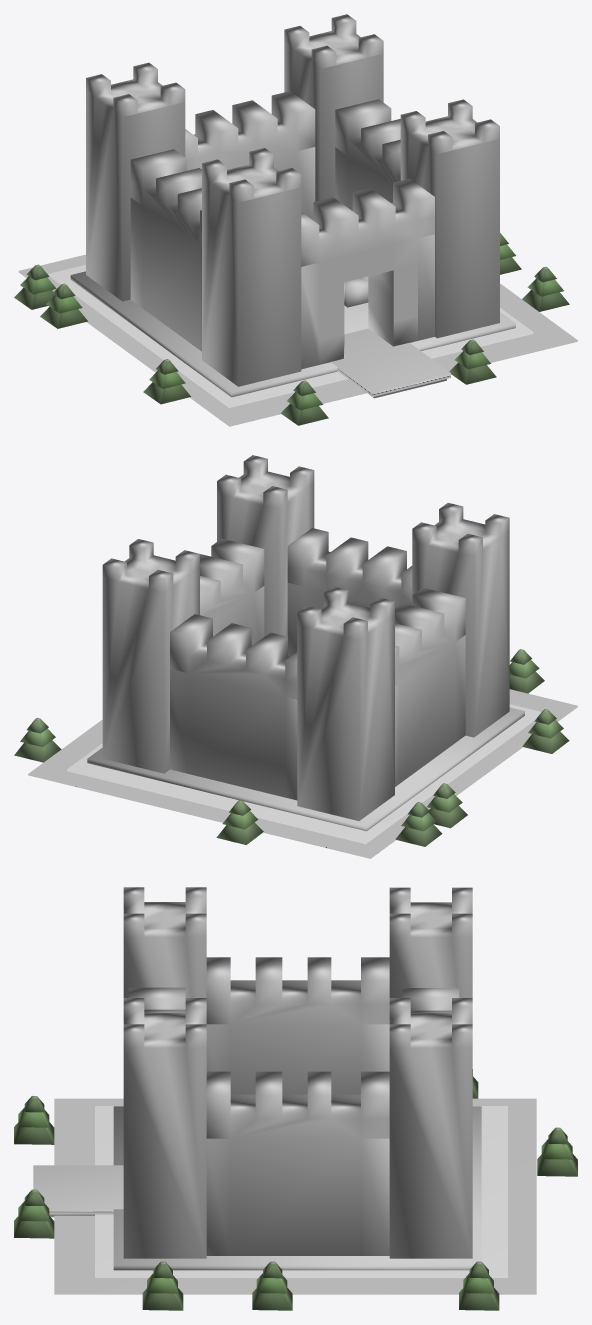
File: Castle.fbx
3 renders of one model, top to bottom at view 1: azimuth 30°, elevation 25°; view 2: azimuth 150°, elevation 25°; view 3: azimuth 270°, elevation 25°, orthographic. The views are drawn at different scales.
Visible parts, largest first — view 1: Tower_003, Wall2, Tower_002, Tower_001, Wall3_001, Tower, Wall3_002, Cube, Floor, Wall3, Cube_002, Cube_001 (+7 smaller); view 2: Tower_001, Wall3_002, Tower, Tower_003, Wall3_001, Tower_002, Cube, Wall2, Floor, Cube_001, Wall3, Tree_002 (+5 smaller); view 3: Wall3, Tower_002, Tower, Wall3_001, Cube, Cube_001, Tower_003, Tower_001, Floor, Cube_002, Tree_000, Tree_005 (+6 smaller).
Part boxes in pixels (<box>): Tower_003: <box>202,148,301,386</box>; Wall2: <box>301,178,434,369</box>; Tower_002: <box>400,99,499,338</box>; Tower_001: <box>86,62,185,301</box>; Wall3_001: <box>130,149,201,351</box>; Tower: <box>284,14,383,201</box>; Wall3_002: <box>185,91,315,220</box>; Cube: <box>18,254,577,426</box>; Floor: <box>70,271,515,398</box>; Wall3: <box>335,99,400,210</box>; Cube_002: <box>331,328,450,396</box>; Cube_001: <box>48,265,533,407</box>; Tower_001: <box>297,586,394,820</box>; Wall3_002: <box>170,614,297,800</box>; Tower: <box>102,539,199,773</box>; Tower_003: <box>412,503,509,737</box>; Wall3_001: <box>395,587,465,786</box>; Tower_002: <box>217,455,314,636</box>; Cube: <box>28,689,577,858</box>; Wall2: <box>287,528,412,656</box>; Floor: <box>87,707,524,831</box>; Cube_001: <box>67,704,541,844</box>; Wall3: <box>200,538,264,645</box>; Tree_002: <box>395,802,442,846</box>; Wall3: <box>206,1071,389,1255</box>; Tower_002: <box>123,998,206,1258</box>; Tower: <box>389,998,472,1258</box>; Wall3_001: <box>206,957,389,1094</box>; Cube: <box>54,1098,536,1294</box>; Cube_001: <box>95,1106,507,1277</box>; Tower_003: <box>123,887,206,997</box>; Tower_001: <box>389,887,472,997</box>; Floor: <box>49,1106,481,1270</box>; Cube_002: <box>33,1165,123,1214</box>; Tree_000: <box>142,1261,183,1310</box>; Tree_005: <box>14,1096,54,1144</box>.
Bounding box in the file's own units: 11.26 × 5.48 × 11.75.
